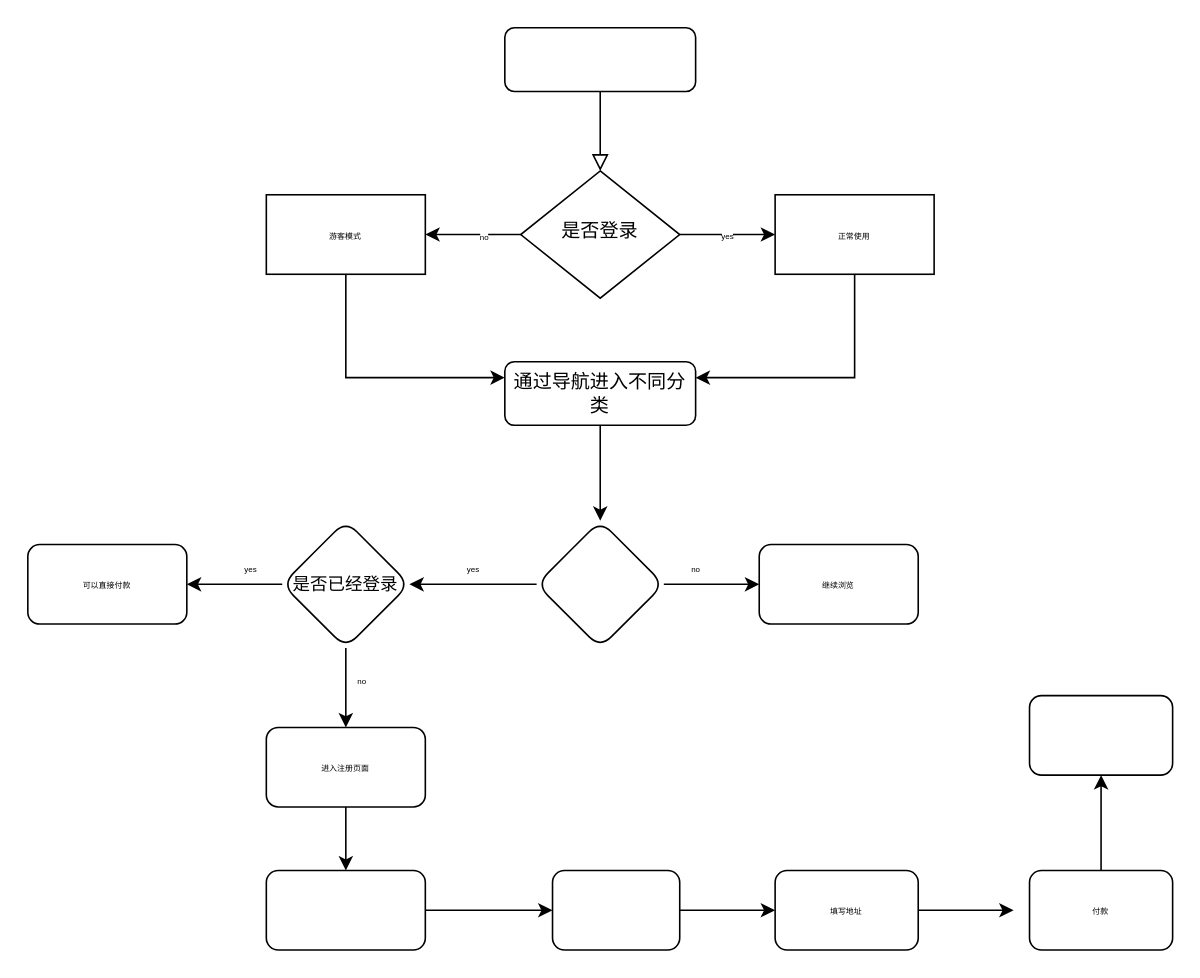
Image size: 1200x978. Some labels were removed from this diagram. The box of each missing label's shape, as (x1, y1, x2, y2) in pixels:
是否选择将商品加入购物车: (535, 519, 664, 648)
登录: (551, 869, 680, 950)
继续浏览或离开: (1028, 694, 1173, 775)
进入网站/app: (503, 26, 696, 91)
选择快捷登录或注册: (265, 869, 425, 950)
